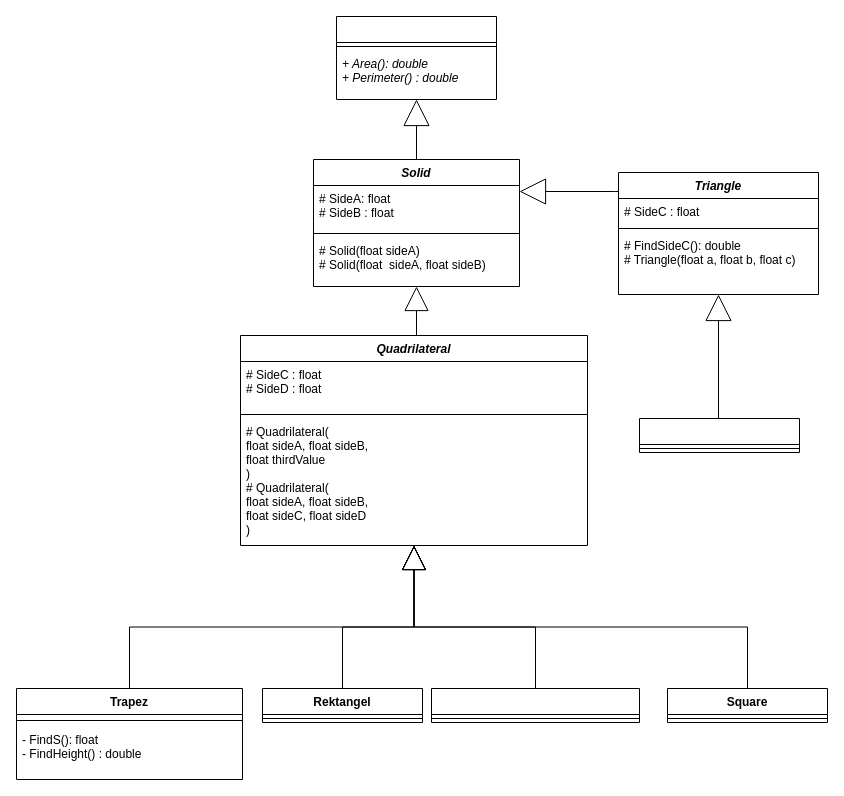
Image size: 844x796. Some labels were removed from this diagram. The box of each missing label's shape, as (x1, y1, x2, y2) in pixels:
Paralellogram: (430, 688, 640, 722)
Right_Triangle: (638, 418, 800, 452)
Shape: (336, 16, 496, 100)
